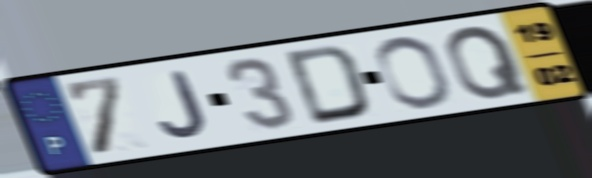3: (225, 54, 297, 133)
7: (63, 74, 129, 158)
D: (281, 42, 374, 128)
J: (156, 68, 210, 140)
O: (371, 33, 456, 111)
Q: (443, 23, 533, 103)
